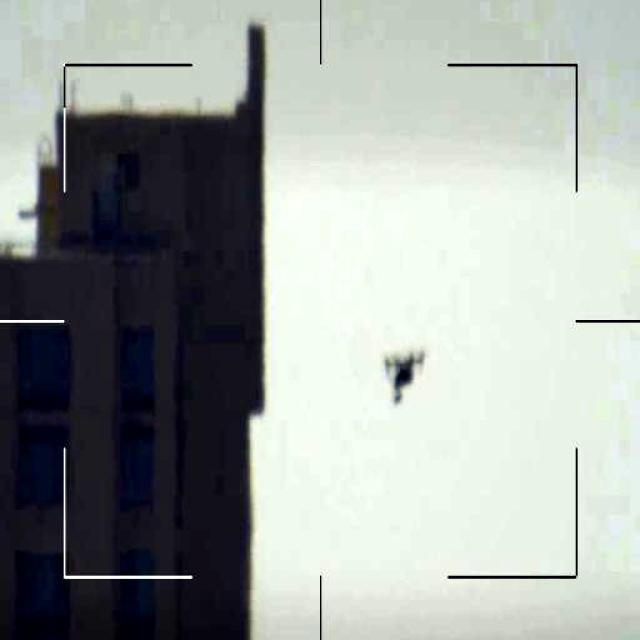bird: (376, 344, 430, 411)
